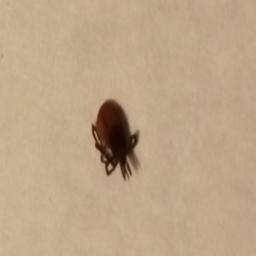Ixodes scapularis: (91, 102, 140, 181)
